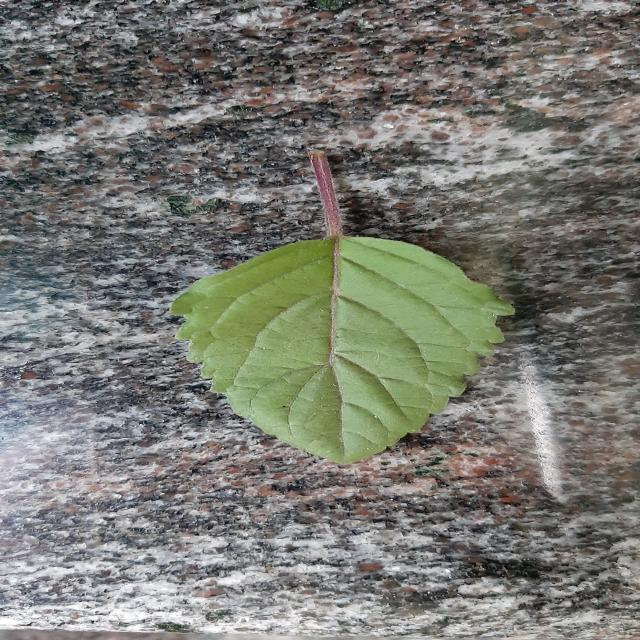tulsi: (171, 238, 512, 462)
